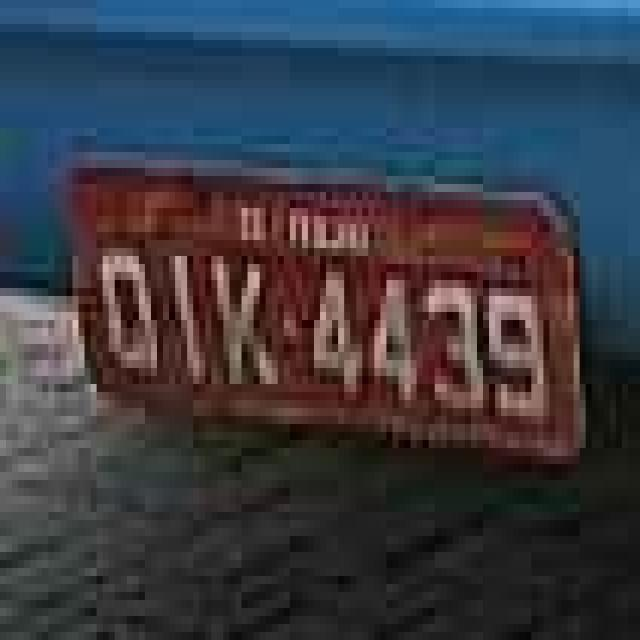3: (426, 265, 484, 426)
4: (315, 246, 367, 413), (365, 254, 419, 413)
9: (481, 276, 551, 438)
I: (158, 243, 205, 394)
K: (203, 245, 281, 392)
Q: (102, 240, 156, 384)
